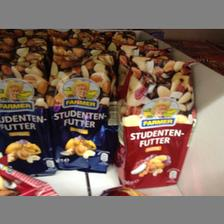Nuss: (116, 54, 196, 190), (44, 44, 116, 174), (0, 46, 56, 178)
